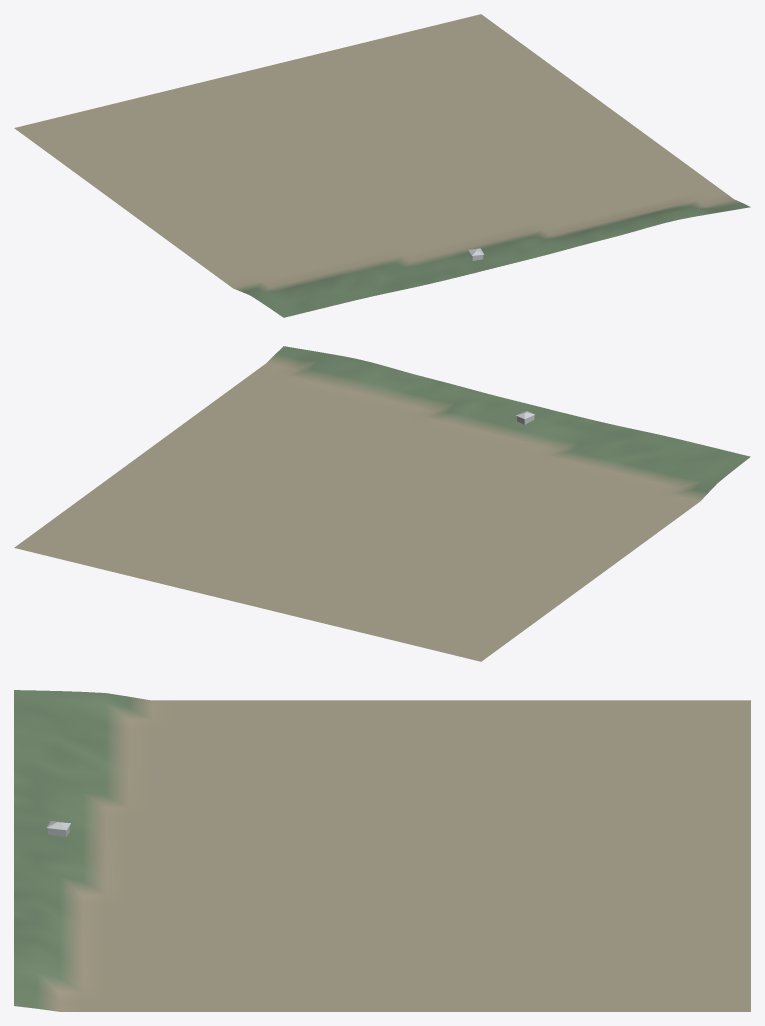
3 views of the same model, one above another, from view 1: azimuth 30°, elevation 25°; view 2: azimuth 150°, elevation 25°; view 3: azimuth 270°, elevation 25° (orthographic). The views are drawn at different scales.
Parts seen in each view (by area): view 1: Terrain-col; view 2: Terrain-col; view 3: Terrain-col.
Part boxes in pixels (bbox=[...]): Terrain-col: bbox=[14, 14, 750, 317]; Terrain-col: bbox=[14, 346, 750, 661]; Terrain-col: bbox=[14, 690, 750, 1011].
Size of the model in its own units: 256 by 6.66 by 256.
